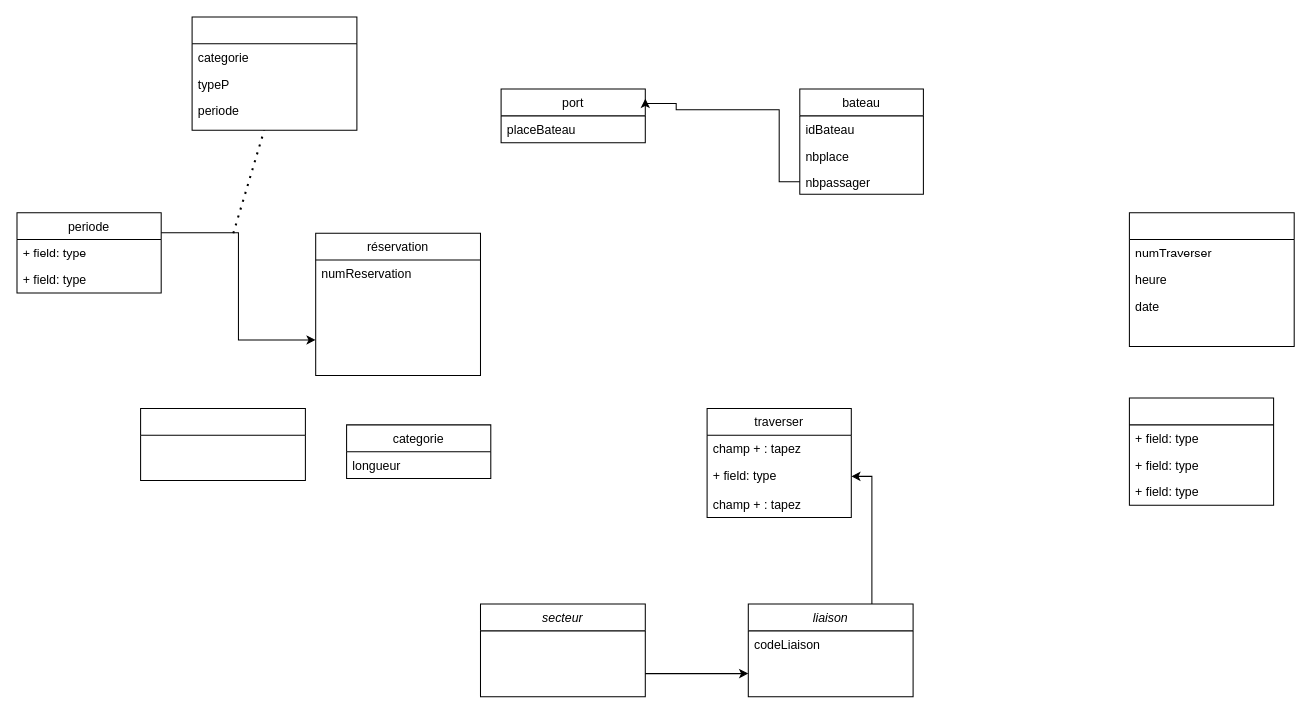
The diagram is 1311 pixels wide and 714 high, and some of its shapes have lost their labels. The box of each missing label's shape, as (x1, y1, x2, y2) in pixels:
capaciteBateau: (1128, 397, 1274, 505)
quantite: (1128, 212, 1294, 347)
tarif: (191, 16, 357, 130)
type: (140, 407, 305, 480)
